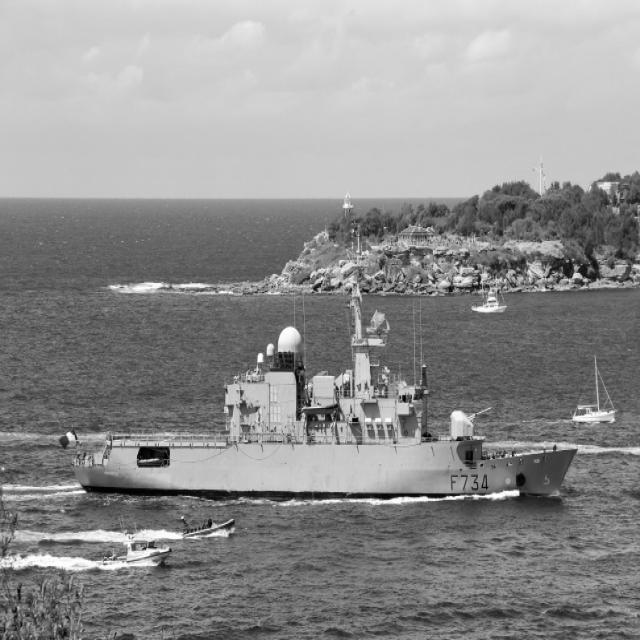Fragata: (64, 254, 580, 505)
